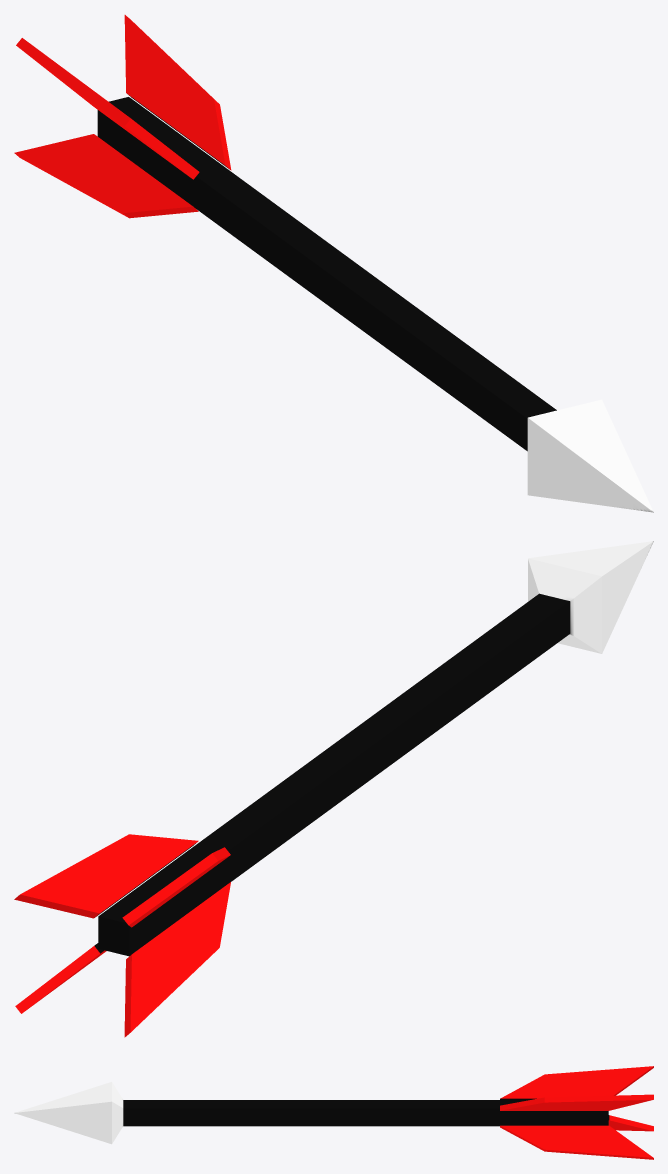
The model's file is Arrow_1001_01.glb.
The picture shows the model from 3 angles, top to bottom: view 1: azimuth 30°, elevation 25°; view 2: azimuth 150°, elevation 25°; view 3: azimuth 270°, elevation 25°; orthographic projection. The views are drawn at different scales.
Visible parts, largest first — view 1: 1001_01_arrow; view 2: 1001_01_arrow; view 3: 1001_01_arrow.
Part boxes in pixels (left/top/right/bottom): 1001_01_arrow: left=14, top=15, right=653, bottom=512; 1001_01_arrow: left=14, top=541, right=653, bottom=1037; 1001_01_arrow: left=14, top=1066, right=653, bottom=1159.
Bounding box in the file's own units: 0.1524 × 0.1514 × 1.32.
1 material, 1 textured.
